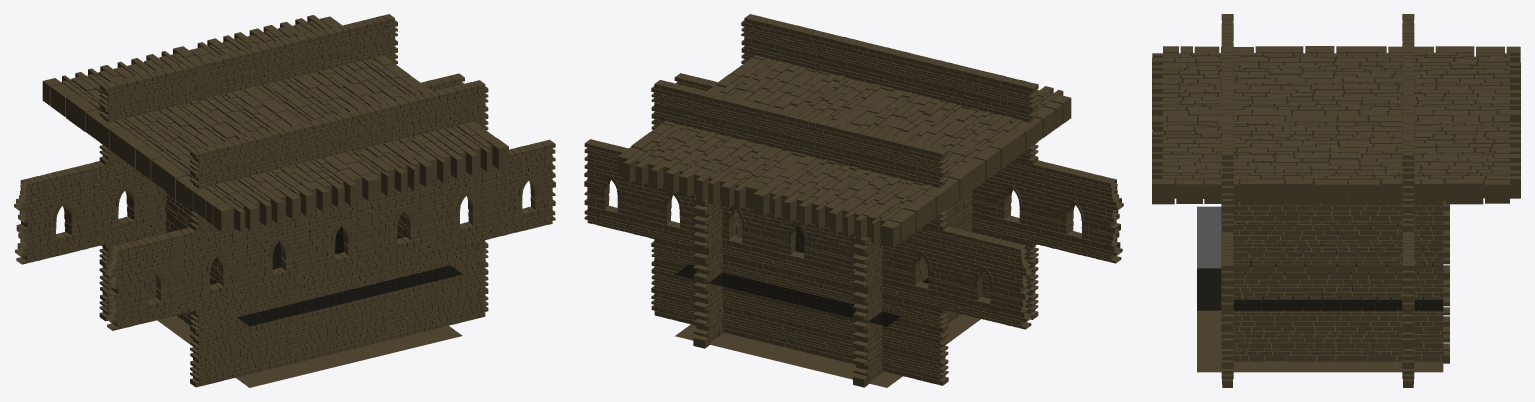
Rendered from FantasyPlatform1.fbx.
3 views of the same model, side by side, from view 1: azimuth 30°, elevation 25°; view 2: azimuth 150°, elevation 25°; view 3: azimuth 270°, elevation 25° (orthographic).
Parts seen in each view (by area): view 1: Environment; view 2: Environment; view 3: Environment.
Part boxes in pixels (x1,y1,x2,y2): Environment: (14,14,555,387); Environment: (584,14,1123,387); Environment: (1152,14,1520,387).
Bounding box in the file's own units: 33633 × 17038 × 24128.
